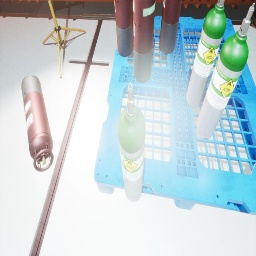0: (196, 3, 255, 139), (186, 0, 226, 108), (118, 82, 146, 202)
NitrogenTank ,: (21, 74, 54, 172), (133, 0, 156, 83), (159, 0, 182, 54), (114, 0, 133, 57), (132, 0, 133, 34)
